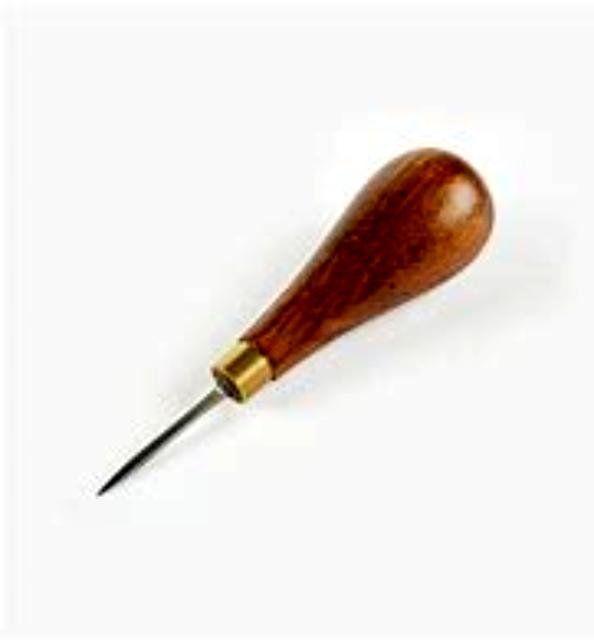ice pick: (99, 154, 499, 496)
